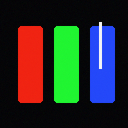4 line_v: (99, 22, 101, 68)
